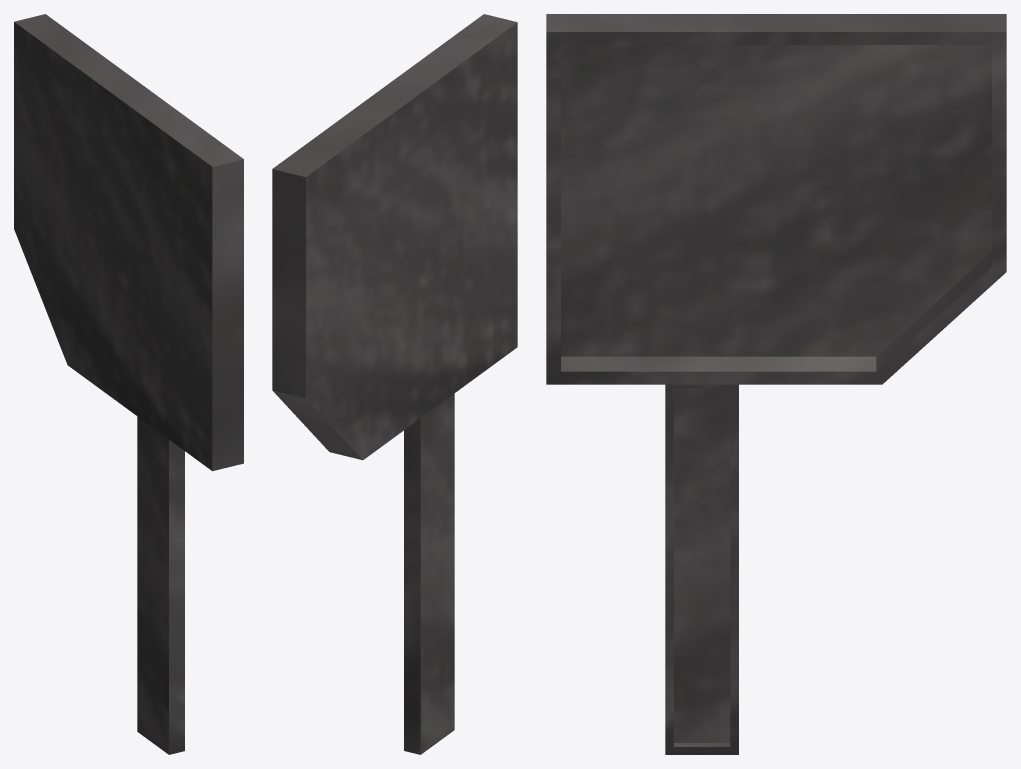
The model's file is Sign 3.fbx.
The picture shows the model from 3 angles, left to right: view 1: azimuth 30°, elevation 25°; view 2: azimuth 150°, elevation 25°; view 3: azimuth 270°, elevation 25°; orthographic projection. The views are drawn at different scales.
Parts seen in each view (by area): view 1: Sign_3; view 2: Sign_3; view 3: Sign_3.
Boxes of the visible parts, x1,y1,x2,y2 form: Sign_3: [14, 14, 243, 754]; Sign_3: [272, 14, 517, 754]; Sign_3: [546, 14, 1006, 754].
Bounding box in the file's own units: 10.93 × 208 × 119.
1 material, 1 textured.
